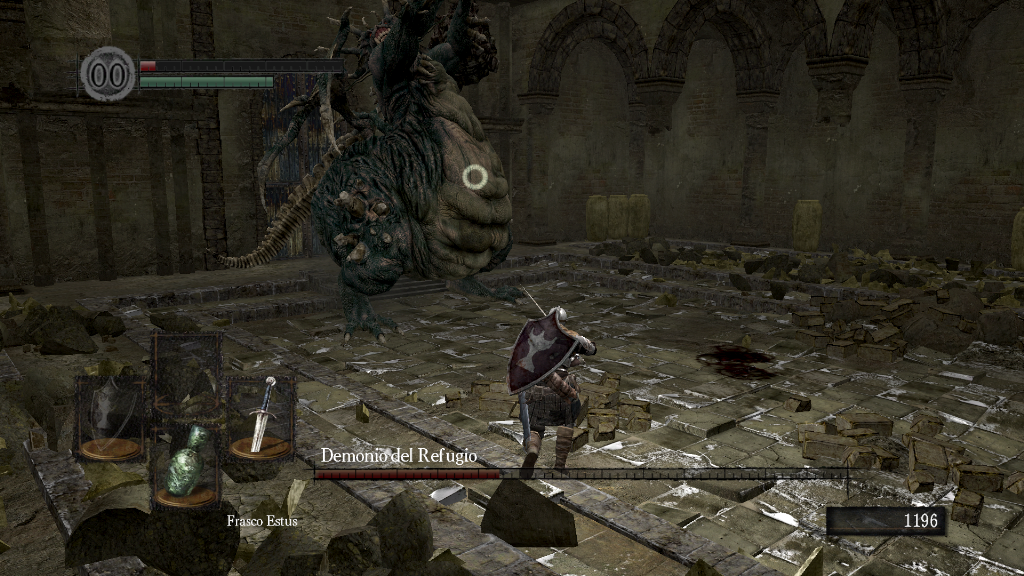asylumDemon: (203, 6, 528, 346)
bossHP: (314, 469, 847, 479)
health: (138, 58, 343, 71)
humanity: (80, 45, 136, 102)
player: (509, 281, 600, 476)
souls: (825, 506, 945, 536)
stamina: (138, 74, 274, 88)
